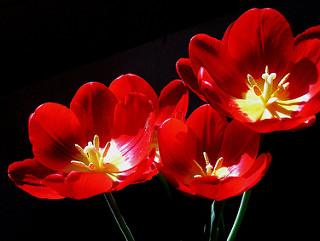tulip: (7, 68, 189, 208), (177, 0, 320, 139), (152, 103, 274, 199)
